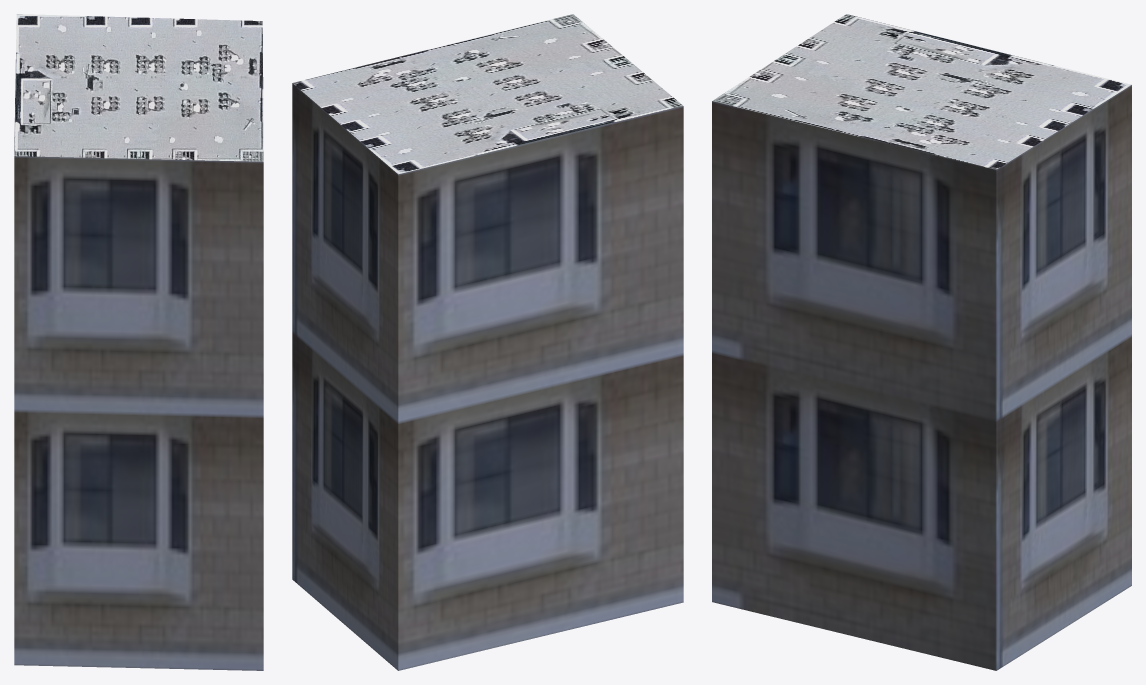
The model's file is ResTex__635.fbx.
3 views of the same model, side by side, from view 1: azimuth 30°, elevation 25°; view 2: azimuth 150°, elevation 25°; view 3: azimuth 270°, elevation 25° (orthographic). The views are drawn at different scales.
Visible parts, largest first — view 1: CityEngineMaterial_3_m, CityEngineMaterial_m; view 2: CityEngineMaterial_3_m, CityEngineMaterial_m; view 3: CityEngineMaterial_3_m, CityEngineMaterial_m.
Part boxes in pixels (box(x1,y1,x2,y2)): CityEngineMaterial_3_m: box(14, 156, 263, 670); CityEngineMaterial_m: box(14, 14, 263, 161); CityEngineMaterial_3_m: box(292, 83, 683, 670); CityEngineMaterial_m: box(293, 14, 682, 174); CityEngineMaterial_3_m: box(712, 85, 1131, 670); CityEngineMaterial_m: box(712, 14, 1131, 169).
Size of the model in its own units: 4.01 by 6 by 4.56.
Materials: 2 (2 with a texture image).
